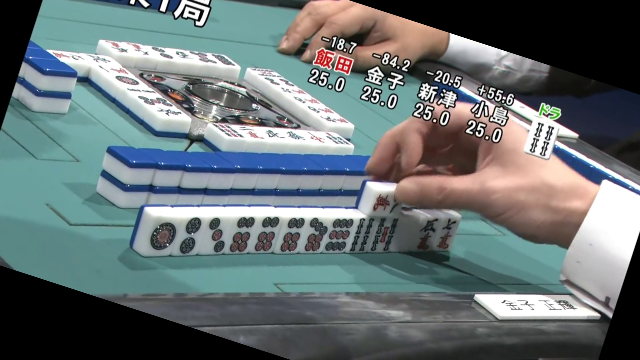Tehai: (132, 196, 463, 256)
